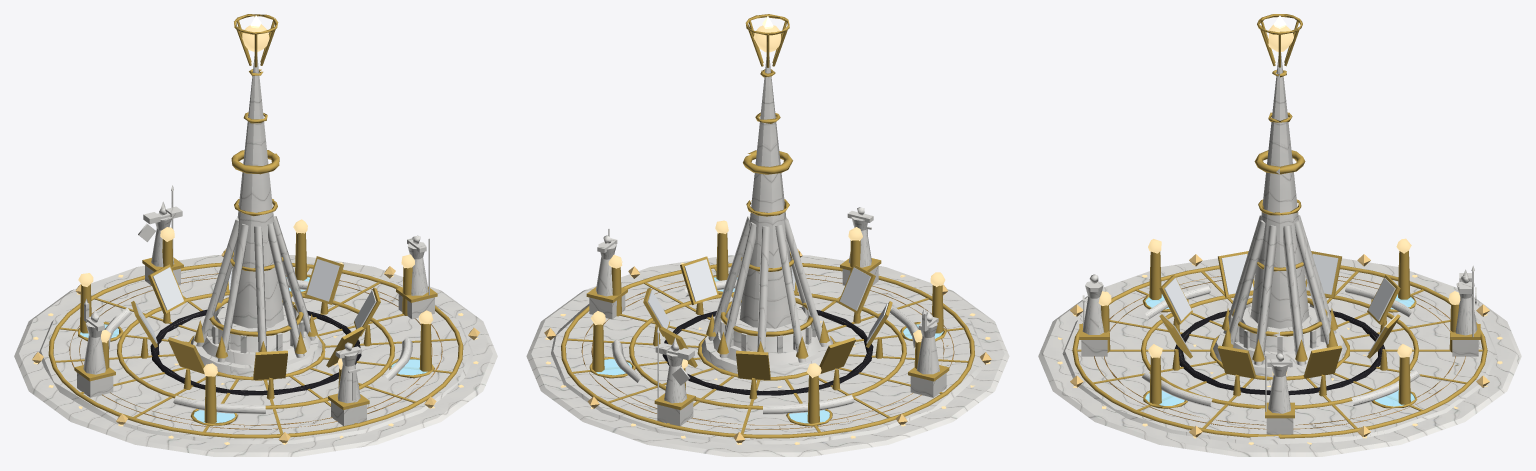
The model's file is spotlight-lance-plaza-far.glb.
The picture shows the model from 3 angles, left to right: view 1: azimuth 30°, elevation 25°; view 2: azimuth 150°, elevation 25°; view 3: azimuth 270°, elevation 25°; orthographic projection.
Visible parts, largest first — view 1: Spotlight_Lance_Plaza, object 36, object 35; view 2: Spotlight_Lance_Plaza, object 36, object 35; view 3: Spotlight_Lance_Plaza, object 36, object 35.
Boxes of the visible parts, left/top/right/bottom form: Spotlight_Lance_Plaza: left=14, top=14, right=497, bottom=456; object 36: left=69, top=273, right=442, bottom=429; object 35: left=79, top=278, right=432, bottom=425; Spotlight_Lance_Plaza: left=526, top=14, right=1009, bottom=456; object 36: left=581, top=273, right=954, bottom=429; object 35: left=591, top=278, right=944, bottom=425; Spotlight_Lance_Plaza: left=1038, top=14, right=1521, bottom=456; object 36: left=1094, top=276, right=1465, bottom=429; object 35: left=1104, top=276, right=1455, bottom=425.
Size of the model in its own units: 97.49 by 77.06 by 99.
Materials: 9 (2 with a texture image).
